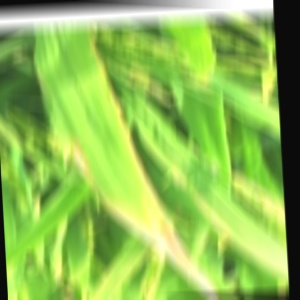Leaf_Blast: (73, 86, 138, 235)
